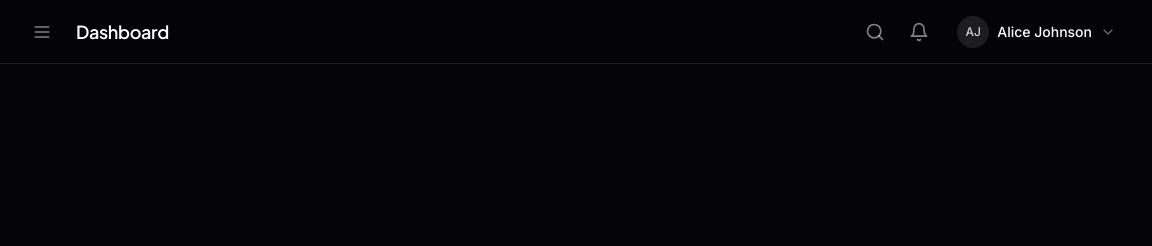
Test: Header › opens the notification panel on bell click
The width and height of the screenshot is (1152, 246).
Click the button named "Notifications".
click(919, 32)  # box [901,14,937,50]
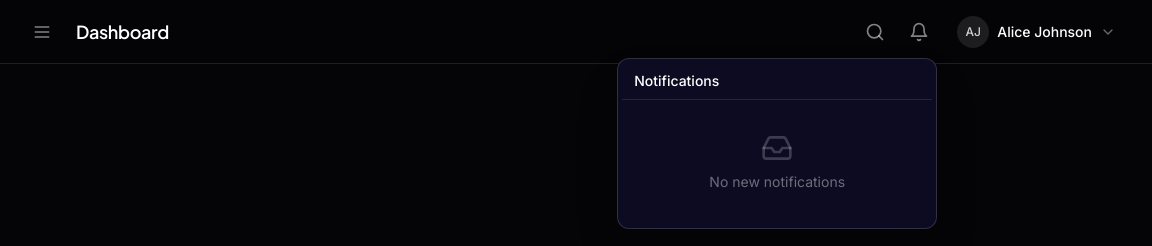
Now the text "Notifications" is shown, box [634,72,719,88]
